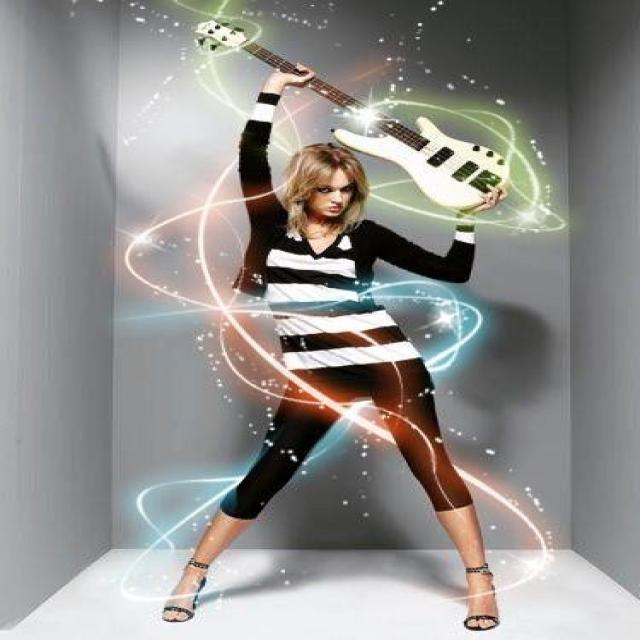guitar: (190, 18, 515, 212)
